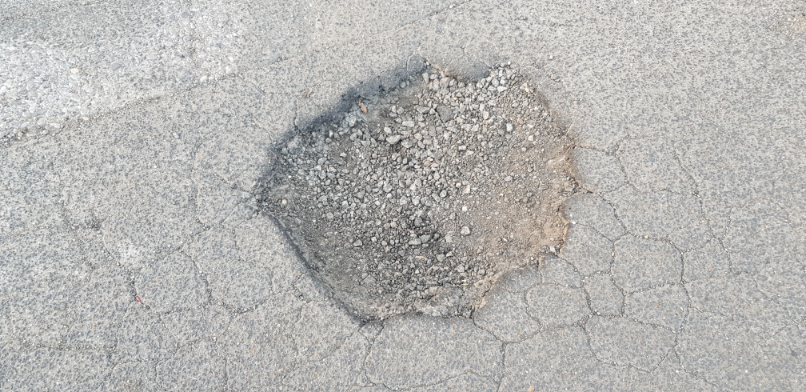pothole: (249, 44, 585, 332)
